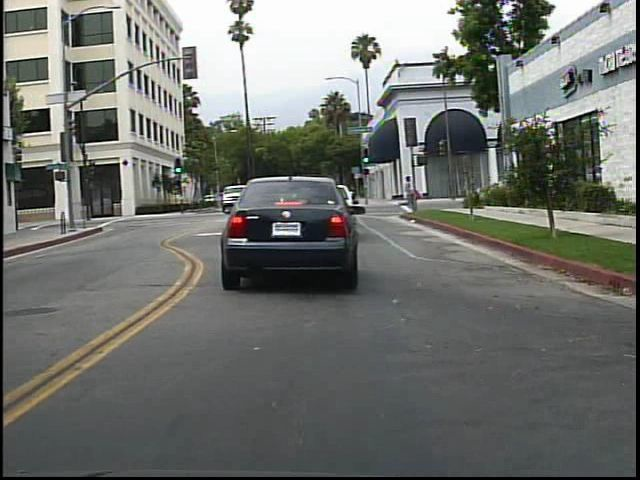person: (395, 173, 416, 218)
